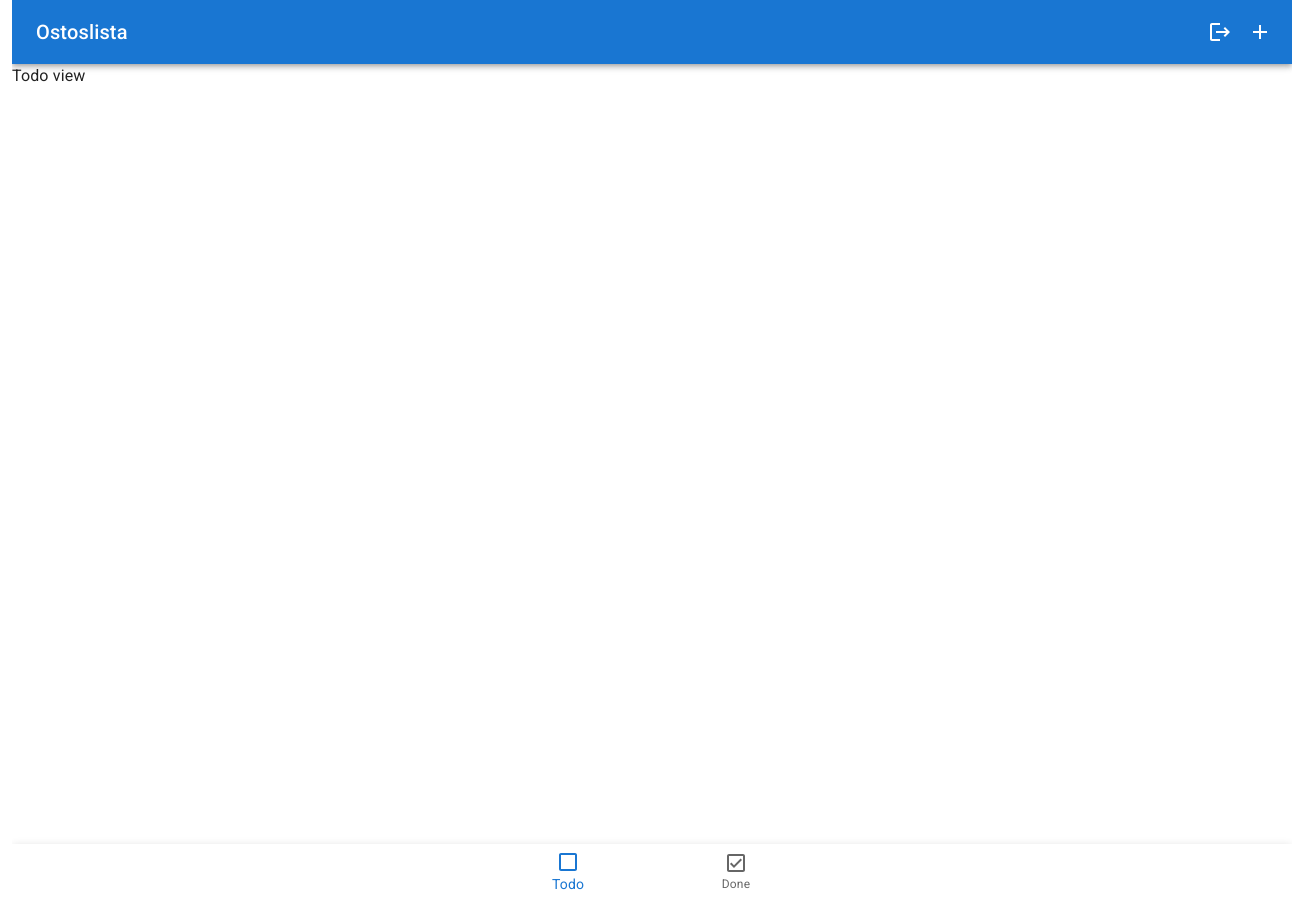
Test case: <ListLayout/> › should navigate to the done list when the done navigation item is clicked
Click the link "Done". click: [736, 871]
box: [722, 851, 750, 891]
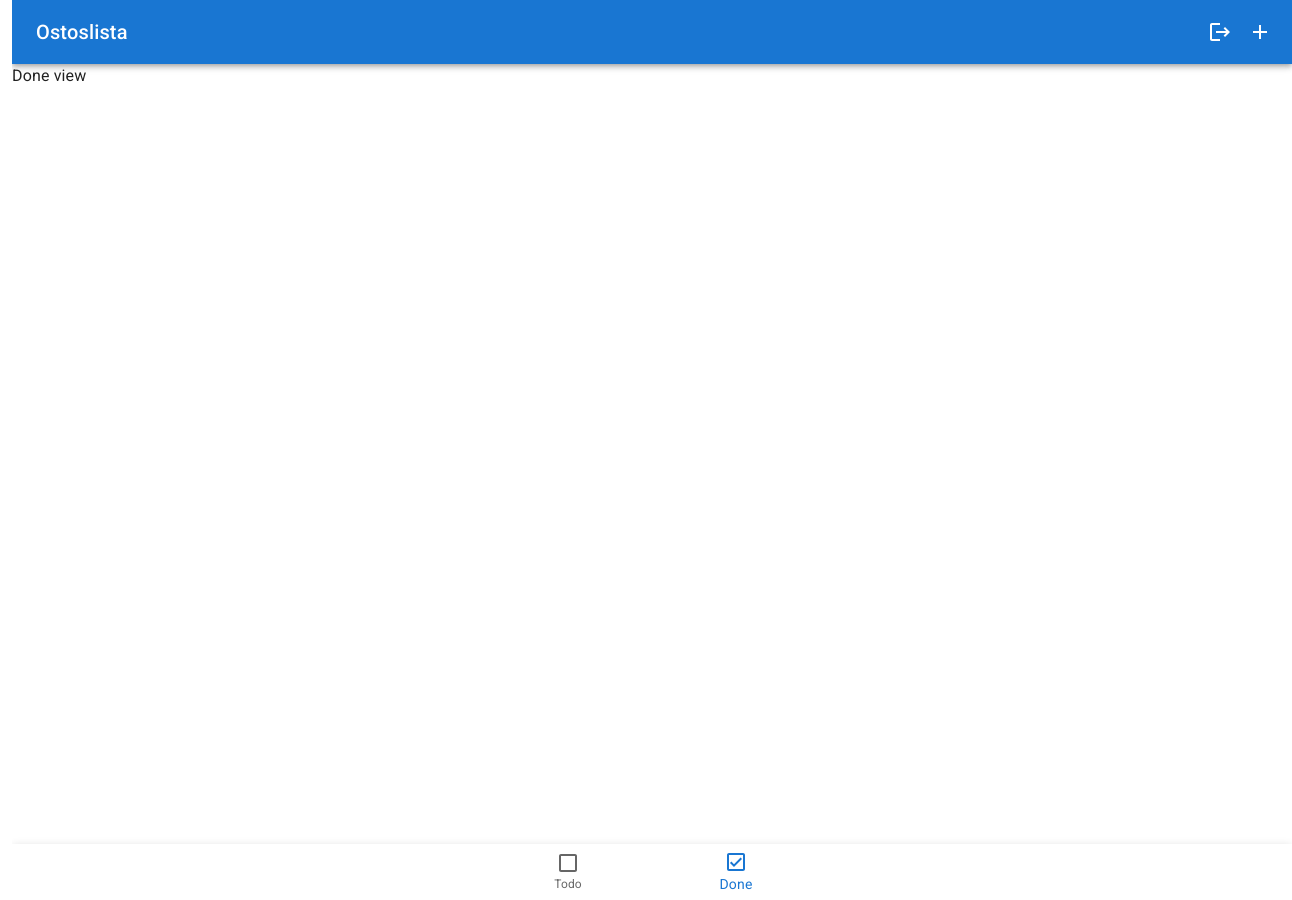
Now the text "Done view" is shown, box [12, 66, 86, 85]
